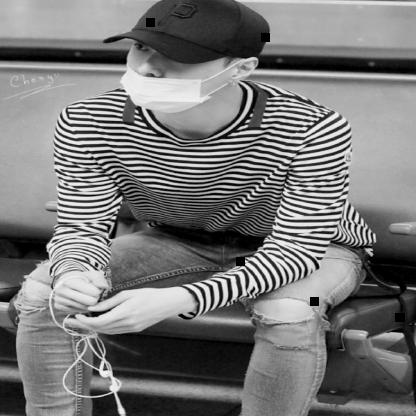mask: (95, 0, 271, 114)
